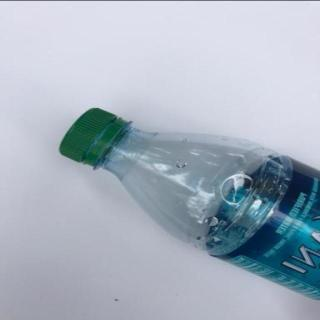Anorganik: (50, 102, 320, 288)
